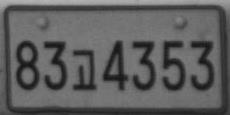3: (131, 40, 156, 91), (189, 40, 214, 91), (42, 40, 67, 90)
4: (101, 40, 128, 90)
5: (161, 39, 186, 91)
8: (14, 39, 40, 90)
고: (71, 49, 97, 90)
